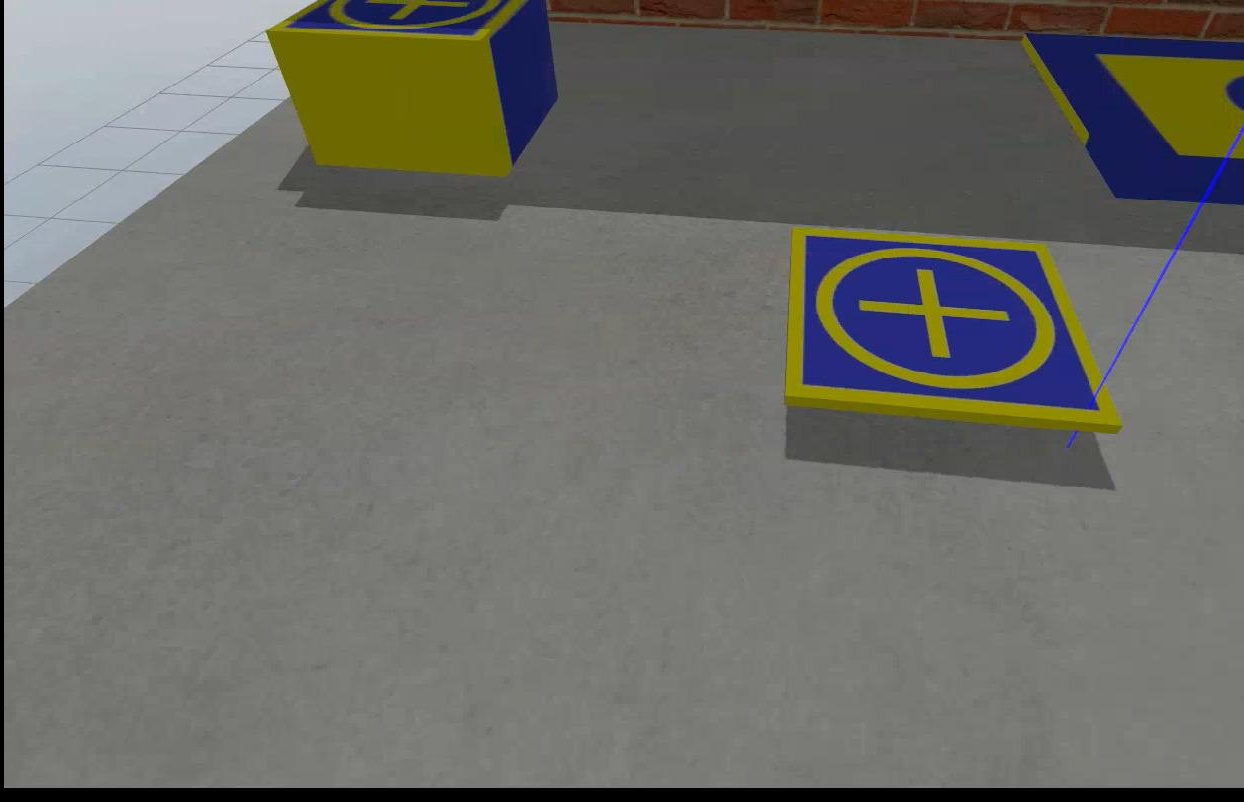large_base: (1019, 34, 1242, 216)
small_base: (776, 231, 1119, 431), (257, 1, 531, 45)
